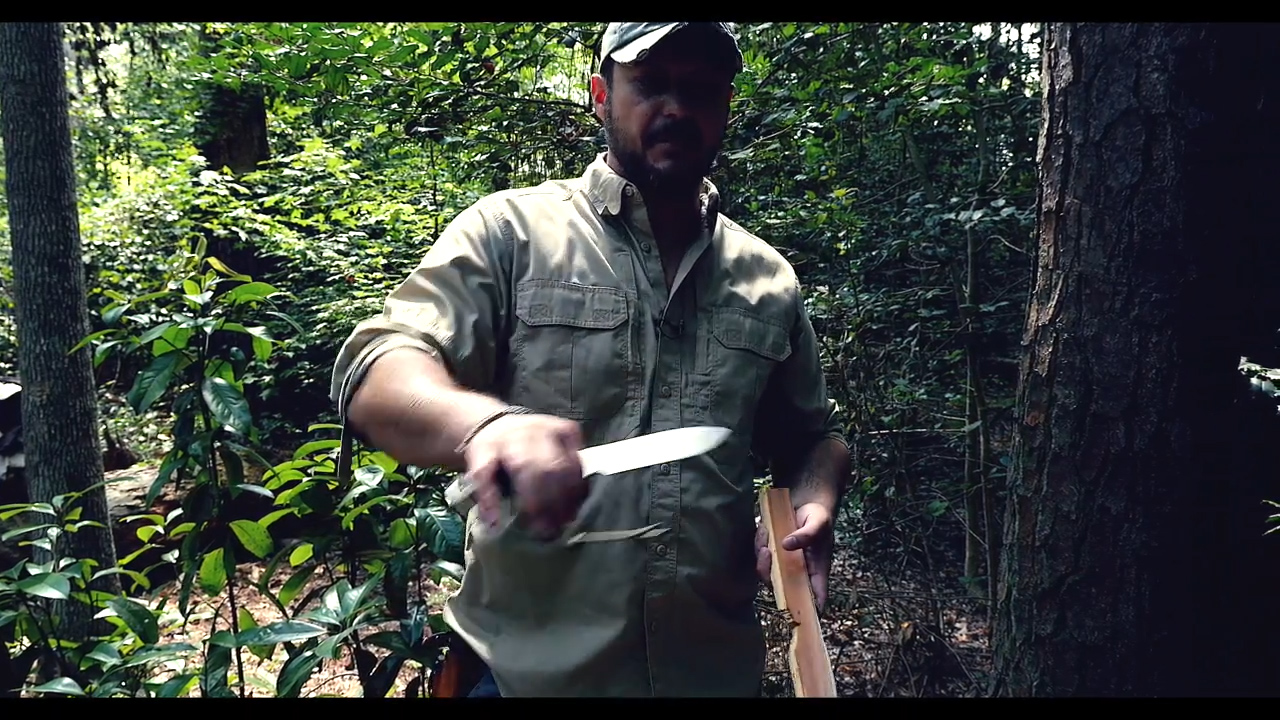knife: (489, 415, 751, 537)
